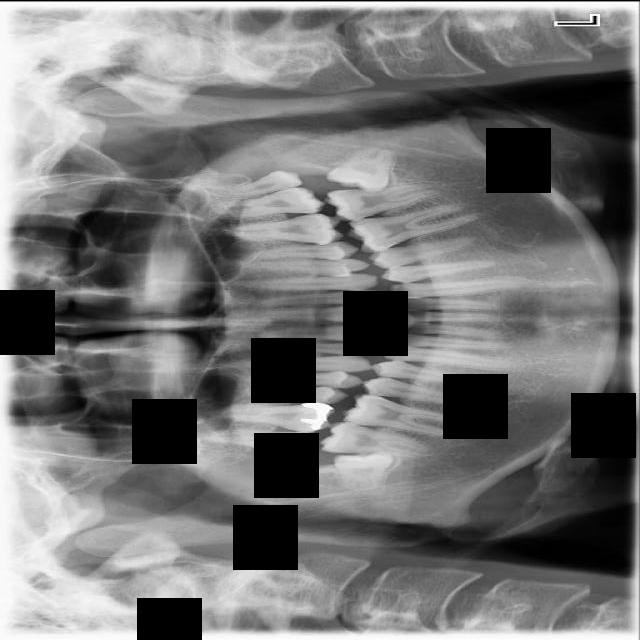52: (277, 395, 336, 437)
73: (555, 22, 573, 34)
BioHorizons Implant: (208, 184, 326, 220)
BioLife Implant: (189, 166, 305, 206)
Biomet 3i Implant: (323, 133, 398, 198)
Blue Sky Bio Implant: (322, 180, 446, 223)
Caries: (205, 425, 317, 458)
Implant: (318, 419, 432, 459)
Keystone Dental Implant: (333, 449, 397, 494)
